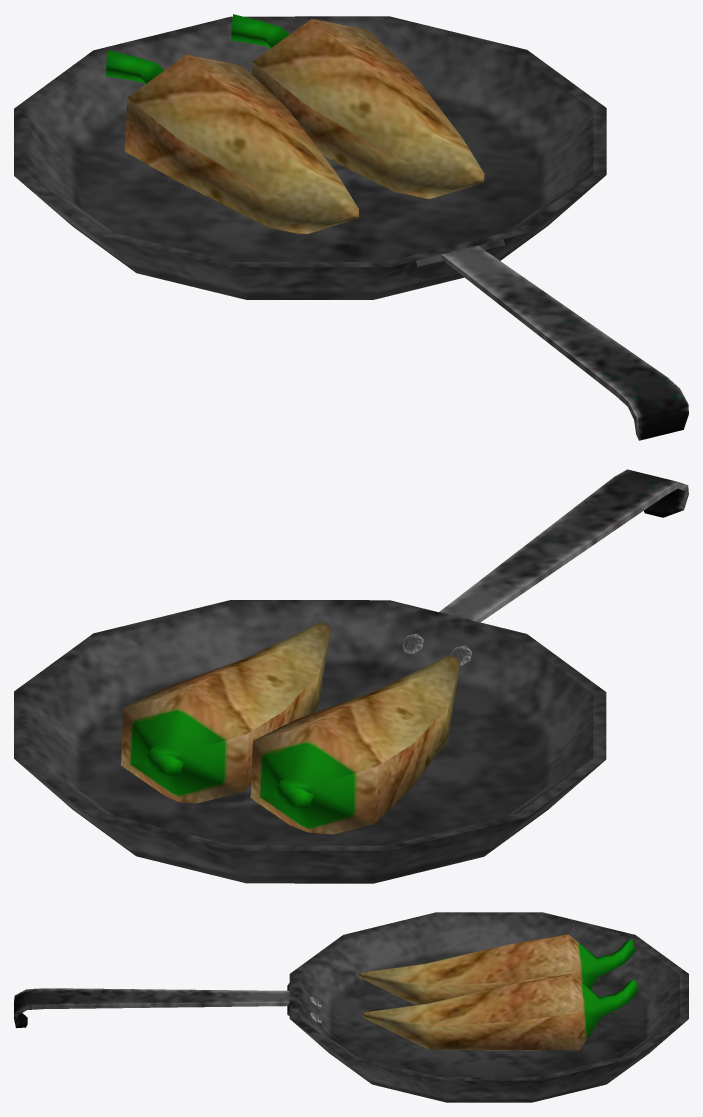
The model's file is AL_ChilesRellenosForged.fbx.
3 views of the same model, one above another, from view 1: azimuth 30°, elevation 25°; view 2: azimuth 150°, elevation 25°; view 3: azimuth 270°, elevation 25° (orthographic). The views are drawn at different scales.
Parts seen in each view (by area): view 1: Taco.002; view 2: Taco.002; view 3: Taco.002.
Boxes of the visible parts, bbox=[...] form: Taco.002: bbox=[14, 14, 688, 440]; Taco.002: bbox=[14, 469, 688, 883]; Taco.002: bbox=[14, 912, 688, 1102].
Size of the model in its own units: 0.7308 by 0.0971 by 0.4323.
